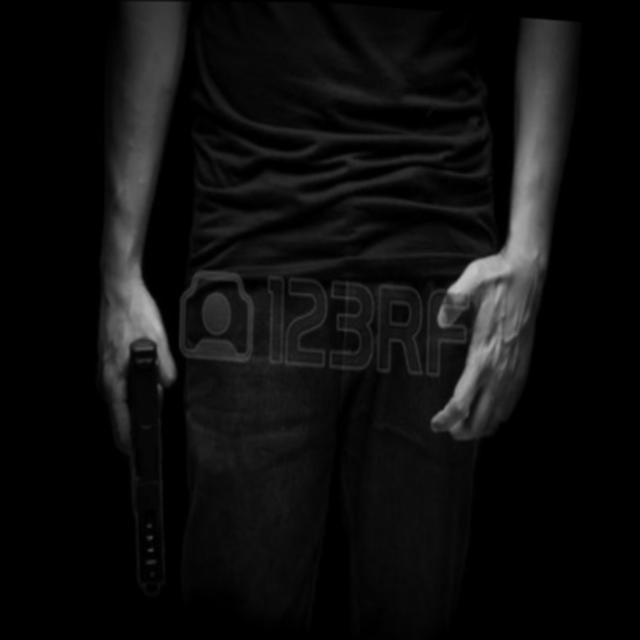weapon: (105, 333, 177, 597)
